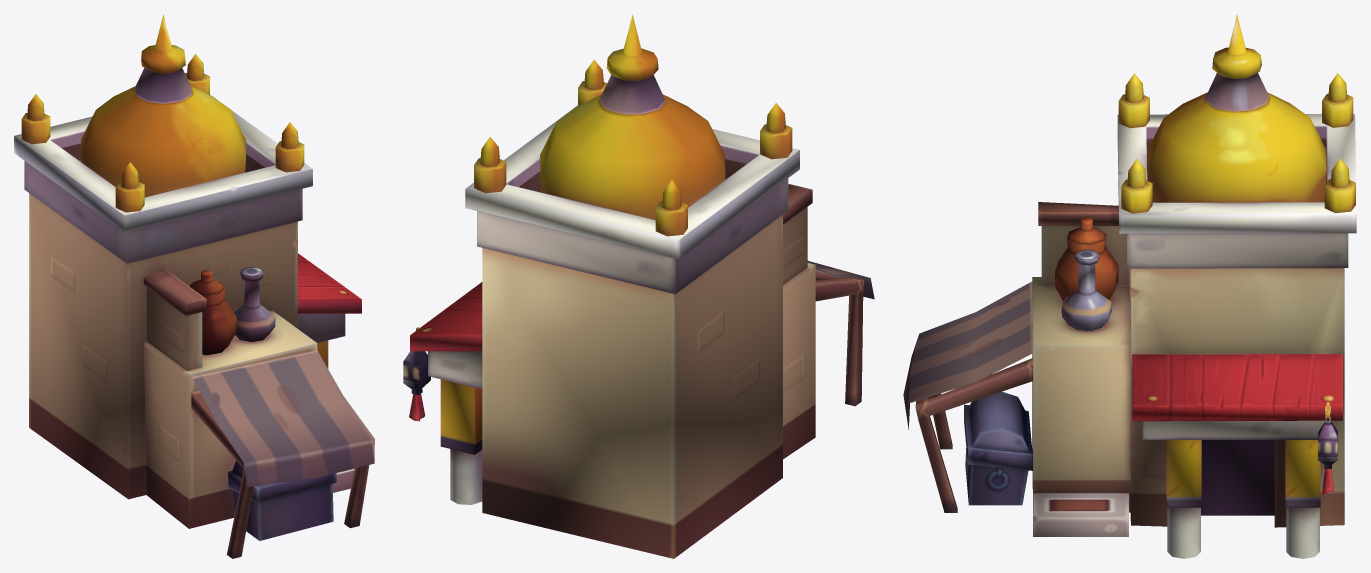
The model's file is city_house_3.fbx.
3 renders of one model, left to right at view 1: azimuth 30°, elevation 25°; view 2: azimuth 150°, elevation 25°; view 3: azimuth 270°, elevation 25°, orthographic. The views are drawn at different scales.
Parts seen in each view (by area): view 1: house_3; view 2: house_3; view 3: house_3.
Boxes of the visible parts, bbox=[...] form: house_3: bbox=[14, 14, 374, 558]; house_3: bbox=[403, 14, 874, 558]; house_3: bbox=[903, 14, 1356, 558].
Size of the model in its own units: 201 by 332 by 286.
